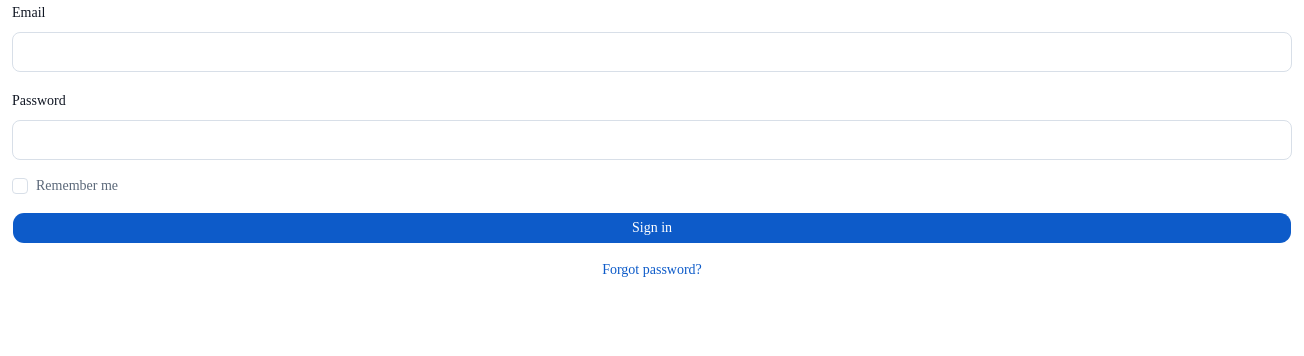
it: LoginForm feature › renders API errors and loading state
Type "bad@example.com" into the field labelled "Email".
click(652, 52); type("bad@example.com")  # box top-left (12, 32), bottom-right (1292, 72)
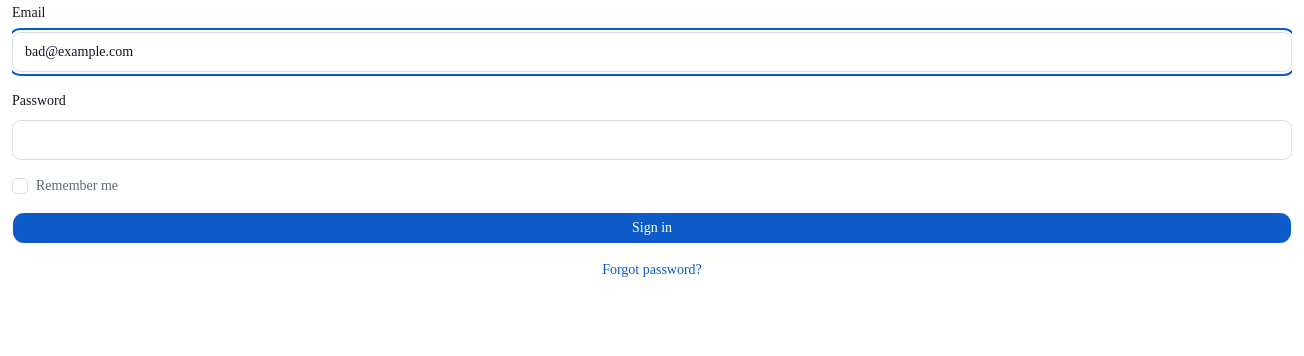
Type "password123" into the password field labelled "Password".
click(652, 140); type("password123")  # box top-left (12, 120), bottom-right (1292, 160)
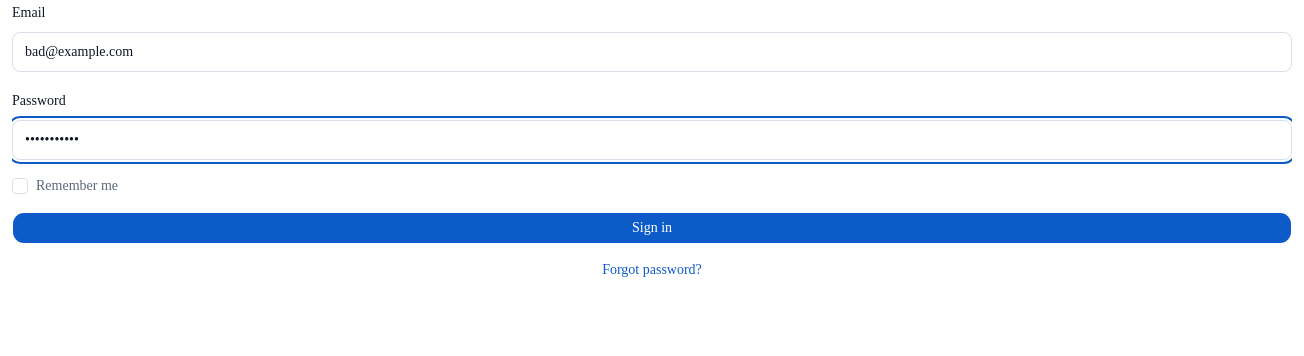
Click the button "Sign in".
click(652, 228)  # box top-left (12, 212), bottom-right (1292, 244)
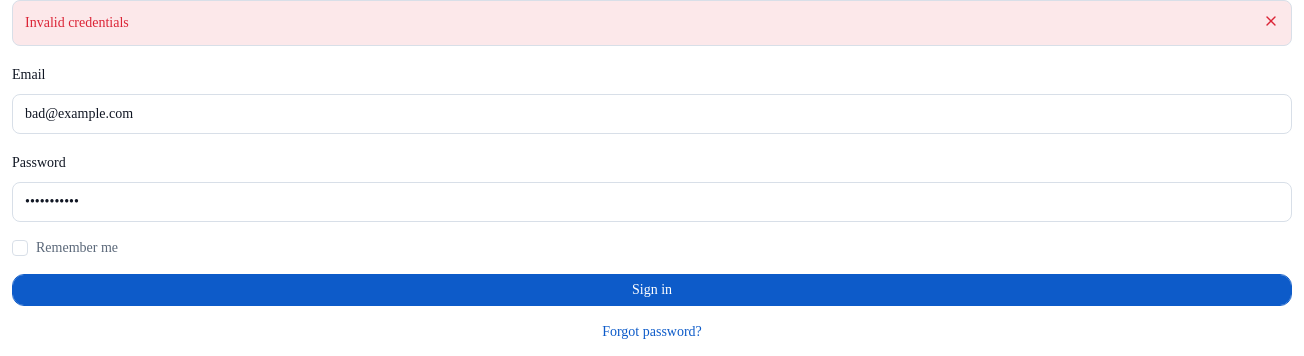
Check: the message reads "Invalid credentials", box top-left (25, 15), bottom-right (129, 30)
